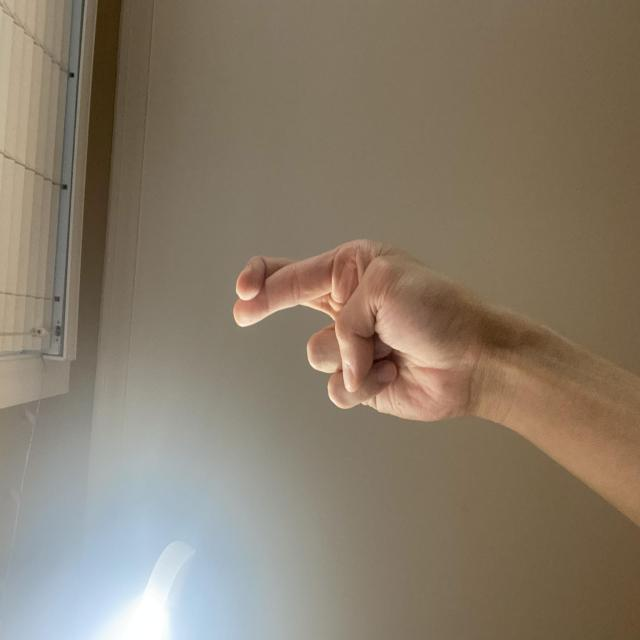R: (153, 303, 306, 640)
